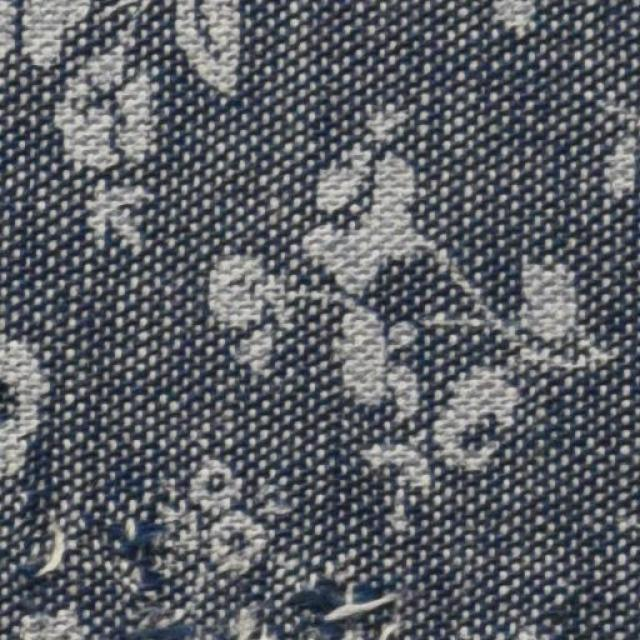Snag: (306, 567, 419, 639), (116, 499, 180, 589), (39, 514, 75, 586)
